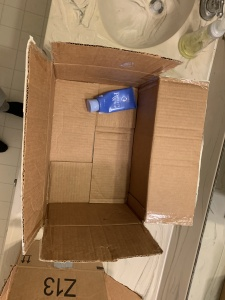innerbox: (53, 70, 145, 221)
outerbox: (22, 39, 197, 262)
product: (86, 87, 137, 114)
